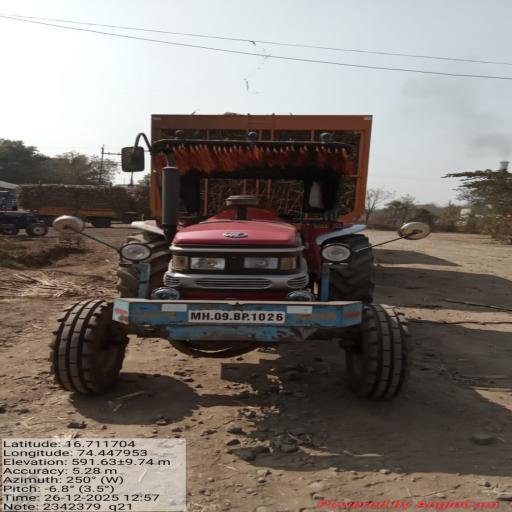number_plate: (180, 300, 298, 332)
